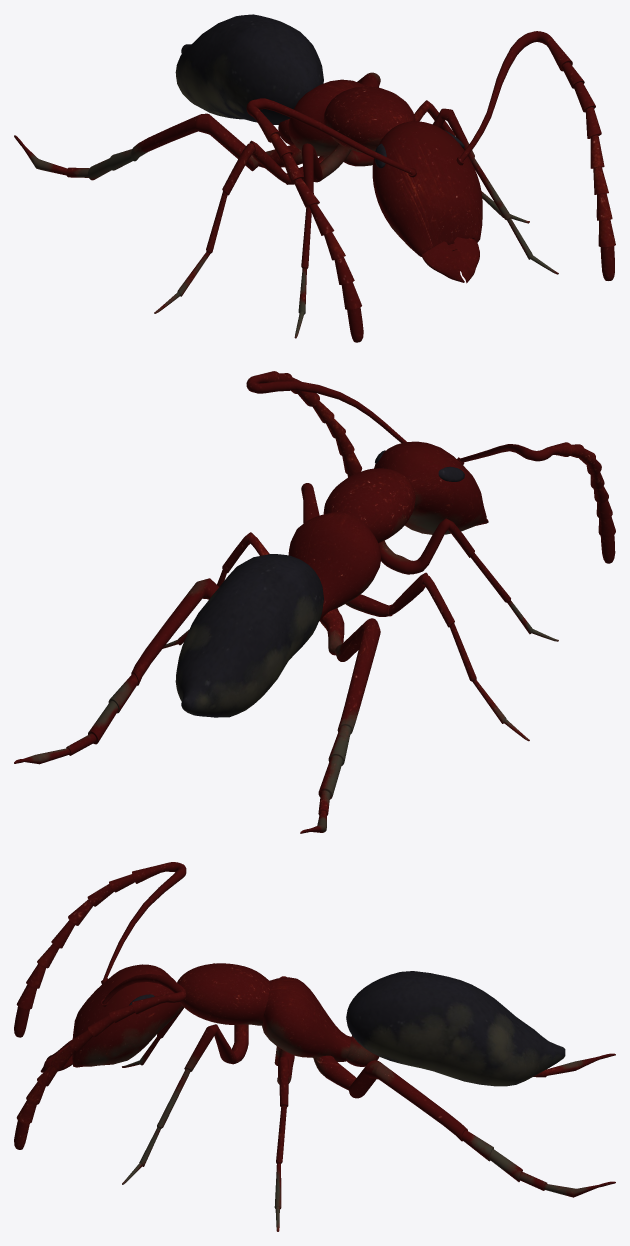
File: soldado-hormiga.glb
3 renders of one model, top to bottom at view 1: azimuth 30°, elevation 25°; view 2: azimuth 150°, elevation 25°; view 3: azimuth 270°, elevation 25°, orthographic. The views are drawn at different scales.
Visible parts, largest first — view 1: mouth; view 2: mouth; view 3: mouth.
Part boxes in pixels (<box>): mouth: <box>14,14,615,342</box>; mouth: <box>14,371,615,833</box>; mouth: <box>14,862,615,1231</box>.
Size of the model in its own units: 0.1649 by 0.1019 by 0.25.
Materials: 1 (1 with a texture image).
